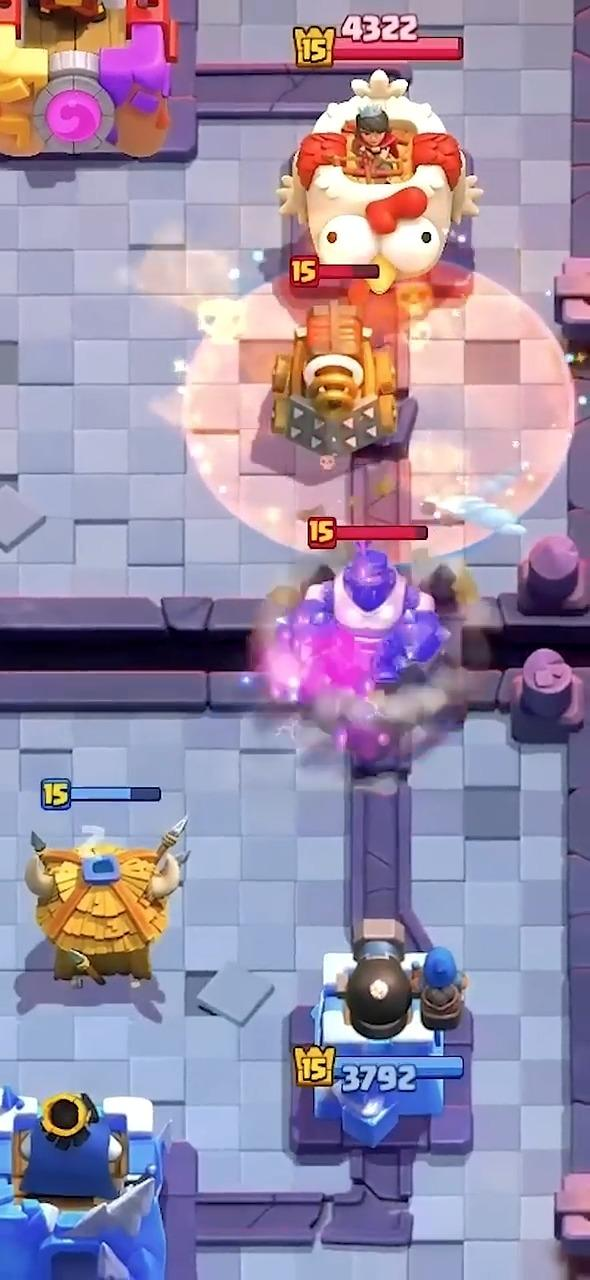goblin hut: (25, 818, 187, 986)
mega knight: (305, 542, 445, 681)
poison: (183, 275, 576, 550)
sparky: (271, 301, 397, 459)
